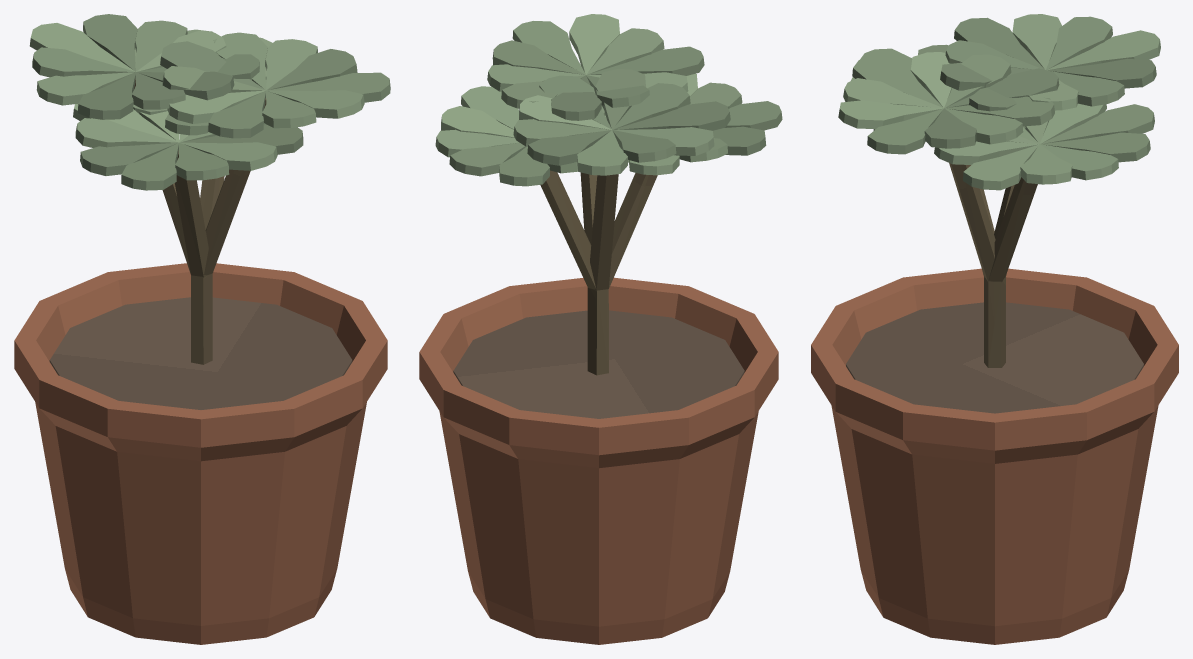
The model's file is new-arboreum.glb.
3 views of the same model, side by side, from view 1: azimuth 30°, elevation 25°; view 2: azimuth 150°, elevation 25°; view 3: azimuth 270°, elevation 25° (orthographic). The views are drawn at different scales.
Visible parts, largest first — view 1: new-arboreum/review-terra-vessel, new-arboreum/review-rooted-soil, new-arboreum/stem-034, new-arboreum/stem-023, new-arboreum/leaf-014, new-arboreum/leaf-015, new-arboreum/leaf-016, new-arboreum/leaf-027, new-arboreum/leaf-029, new-arboreum/leaf-040, new-arboreum/leaf-018, new-arboreum/leaf-044 (+22 smaller); view 2: new-arboreum/review-terra-vessel, new-arboreum/review-rooted-soil, new-arboreum/stem-012, new-arboreum/stem-001, new-arboreum/stem-023, new-arboreum/leaf-018, new-arboreum/leaf-042, new-arboreum/leaf-040, new-arboreum/leaf-043, new-arboreum/leaf-041, new-arboreum/leaf-014, new-arboreum/leaf-019 (+23 smaller); view 3: new-arboreum/review-terra-vessel, new-arboreum/review-rooted-soil, new-arboreum/stem-034, new-arboreum/stem-001, new-arboreum/leaf-004, new-arboreum/leaf-015, new-arboreum/leaf-016, new-arboreum/leaf-042, new-arboreum/leaf-043, new-arboreum/leaf-010, new-arboreum/leaf-018, new-arboreum/leaf-040 (+21 smaller).
Part boxes in pixels (<box>): new-arboreum/review-terra-vessel: <box>14,263,387,644</box>; new-arboreum/review-rooted-soil: <box>49,297,352,409</box>; new-arboreum/stem-034: <box>191,98,266,364</box>; new-arboreum/stem-023: <box>175,150,212,364</box>; new-arboreum/leaf-014: <box>83,14,137,71</box>; new-arboreum/leaf-015: <box>29,23,134,71</box>; new-arboreum/leaf-016: <box>32,47,135,77</box>; new-arboreum/leaf-027: <box>75,118,178,147</box>; new-arboreum/leaf-029: <box>121,143,178,190</box>; new-arboreum/leaf-040: <box>208,91,265,138</box>; new-arboreum/leaf-018: <box>78,72,135,119</box>; new-arboreum/leaf-044: <box>267,49,357,90</box>; new-arboreum/review-terra-vessel: <box>419,277,778,644</box>; new-arboreum/review-rooted-soil: <box>453,310,744,418</box>; new-arboreum/stem-012: <box>587,174,618,375</box>; new-arboreum/stem-001: <box>540,170,608,375</box>; new-arboreum/stem-023: <box>596,173,657,348</box>; new-arboreum/leaf-018: <box>613,101,730,130</box>; new-arboreum/leaf-042: <box>569,14,619,74</box>; new-arboreum/leaf-040: <box>587,46,704,75</box>; new-arboreum/leaf-043: <box>512,21,585,74</box>; new-arboreum/leaf-041: <box>586,28,664,74</box>; new-arboreum/leaf-014: <box>527,130,611,165</box>; new-arboreum/leaf-019: <box>612,83,690,129</box>; new-arboreum/review-terra-vessel: <box>811,268,1178,644</box>; new-arboreum/review-rooted-soil: <box>846,302,1143,413</box>; new-arboreum/stem-034: <box>949,163,1005,330</box>; new-arboreum/stem-001: <box>984,177,1037,281</box>; new-arboreum/leaf-004: <box>1041,104,1154,143</box>; new-arboreum/leaf-015: <box>1047,30,1160,70</box>; new-arboreum/leaf-016: <box>1046,16,1112,69</box>; new-arboreum/leaf-042: <box>838,100,943,129</box>; new-arboreum/leaf-043: <box>867,108,943,154</box>; new-arboreum/leaf-010: <box>963,144,1038,190</box>; new-arboreum/leaf-018: <box>954,17,1044,69</box>; new-arboreum/leaf-040: <box>852,55,943,107</box>.
Size of the model in its own units: 0.19 by 0.2945 by 0.19.
4 materials, 4 textured.
